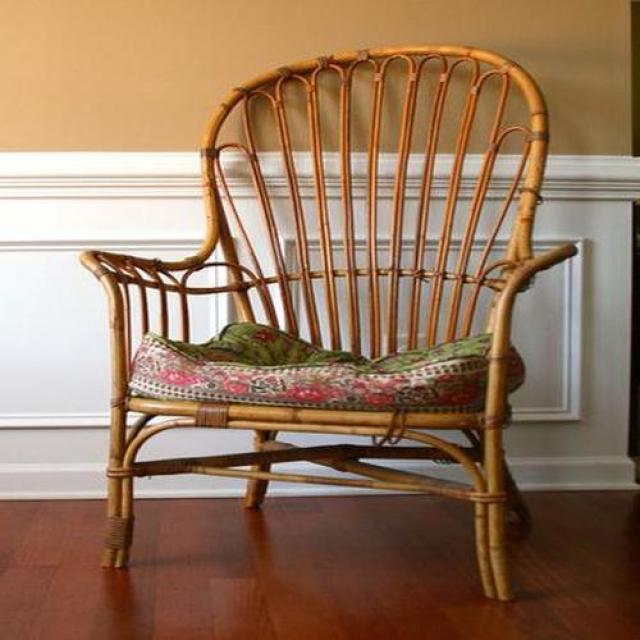chair: (82, 46, 577, 602)
